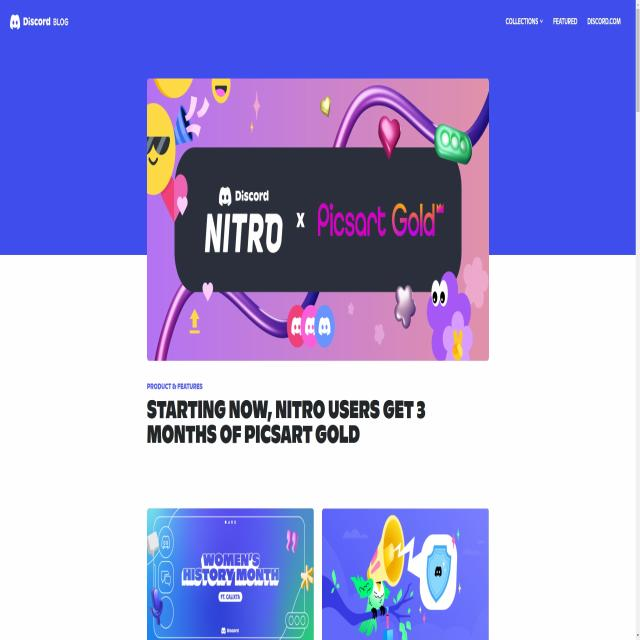menu-bar: (501, 7, 625, 37)
